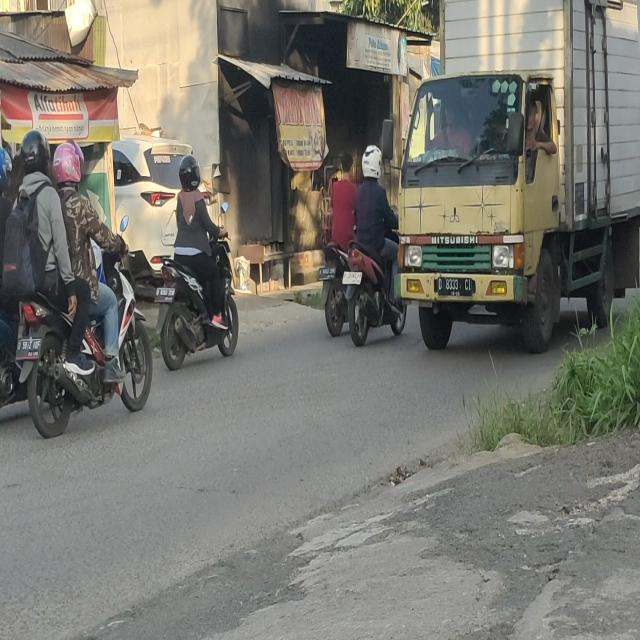helmet: (53, 138, 83, 185), (22, 130, 50, 176), (180, 155, 201, 192), (362, 145, 382, 182), (0, 146, 11, 191)
no-helmet: (341, 152, 354, 180)
